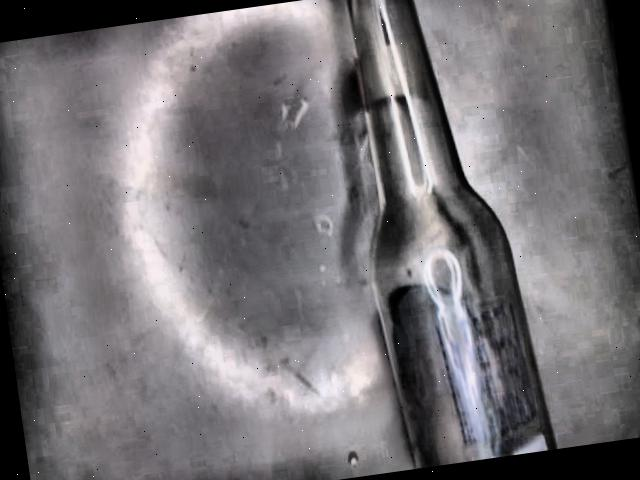Bottles: (347, 0, 559, 469)
